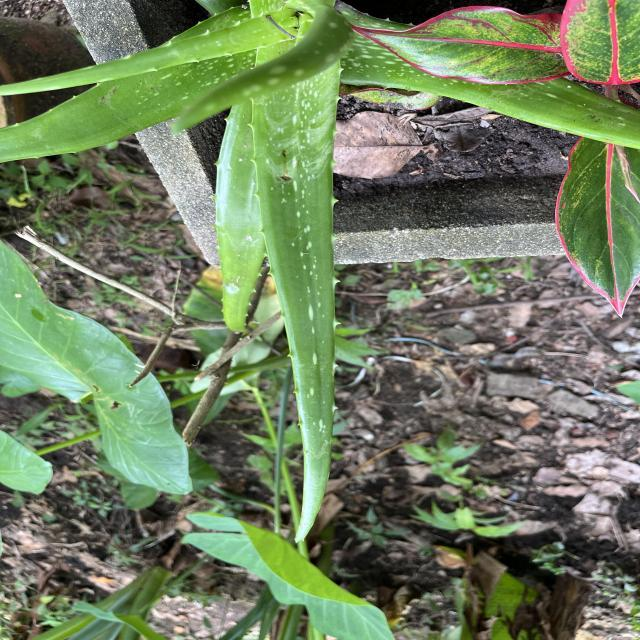Aloe vera: (242, 66, 350, 548)
